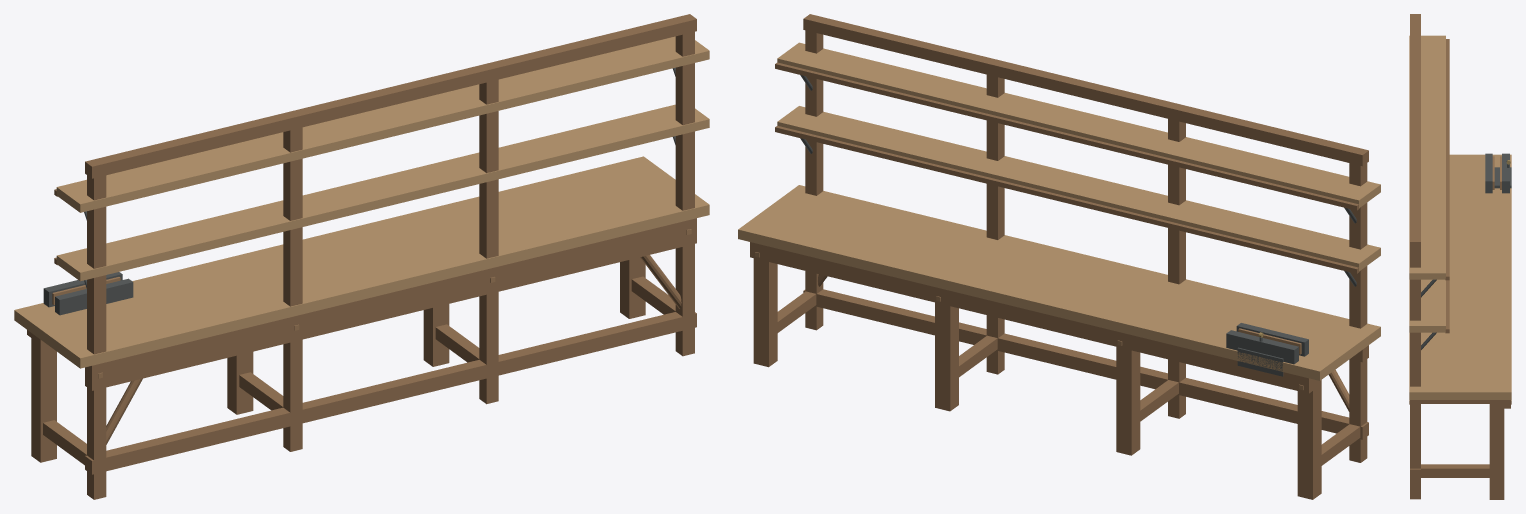
Rendered from parametric-carpenter-workbench-crew.glb.
3 views of the same model, side by side, from view 1: azimuth 30°, elevation 25°; view 2: azimuth 150°, elevation 25°; view 3: azimuth 270°, elevation 25° (orthographic). The views are drawn at different scales.
Parts seen in each view (by area): view 1: worktop, overhead-shelf:0, overhead-shelf:1, rear-apron, rear-stretcher, upper-rear-rail, rear-upright:0, rear-upright:2, rear-upright:3, rear-upright:1, front-leg:0, front-leg:1 (+7 smaller); view 2: worktop, overhead-shelf:0, overhead-shelf:1, upper-rear-rail, front-apron, rear-stretcher, shelf-front-lip:1, shelf-front-lip:0, rear-upright:0, rear-upright:2, rear-upright:1, rear-upright:3 (+10 smaller); view 3: worktop, overhead-shelf:1, upper-rear-rail, rear-upright:3, front-leg:3, overhead-shelf:0, shelf-front-lip:1, cross-stretcher:3, vice-fixed-jaw, vice-moving-jaw, cross-stretcher:2, shelf-front-lip:0 (+2 smaller).
Boxes of the visible parts, box(x1,y1,x2,y2) form: worktop: box(14, 156, 709, 368); overhead-shelf:0: box(56, 104, 709, 281); overhead-shelf:1: box(56, 36, 709, 212); rear-apron: box(85, 218, 696, 390); rear-stretcher: box(85, 312, 696, 474); upper-rear-rail: box(85, 14, 696, 178); rear-upright:0: box(87, 158, 106, 499); rear-upright:2: box(479, 62, 498, 404); rear-upright:3: box(675, 15, 694, 356); rear-upright:1: box(283, 110, 302, 451); front-leg:0: box(31, 333, 56, 462); front-leg:1: box(227, 351, 253, 414); worktop: box(738, 185, 1380, 380); overhead-shelf:0: box(777, 106, 1380, 271); overhead-shelf:1: box(777, 42, 1380, 207); upper-rear-rail: box(803, 14, 1368, 166); front-apron: box(750, 242, 1313, 393); rear-stretcher: box(803, 289, 1368, 439); shelf-front-lip:1: box(775, 62, 1359, 210); shelf-front-lip:0: box(775, 126, 1359, 273); rear-upright:0: box(1349, 147, 1367, 462); rear-upright:2: box(986, 59, 1004, 374); rear-upright:1: box(1168, 103, 1185, 418); rear-upright:3: box(805, 14, 823, 330); worktop: box(1409, 154, 1511, 399); overhead-shelf:1: box(1409, 35, 1445, 279); upper-rear-rail: box(1410, 14, 1420, 251); rear-upright:3: box(1410, 237, 1420, 499); front-leg:3: box(1489, 400, 1504, 499); overhead-shelf:0: box(1409, 279, 1445, 332); shelf-front-lip:1: box(1445, 39, 1449, 280); cross-stretcher:3: box(1421, 464, 1489, 477); vice-fixed-jaw: box(1485, 153, 1492, 193); vice-moving-jaw: box(1502, 153, 1509, 193); cross-stretcher:2: box(1421, 400, 1489, 403); shelf-front-lip:0: box(1445, 280, 1449, 333).
Bounding box in the file's own units: 3.85 × 1.95 × 0.7.
